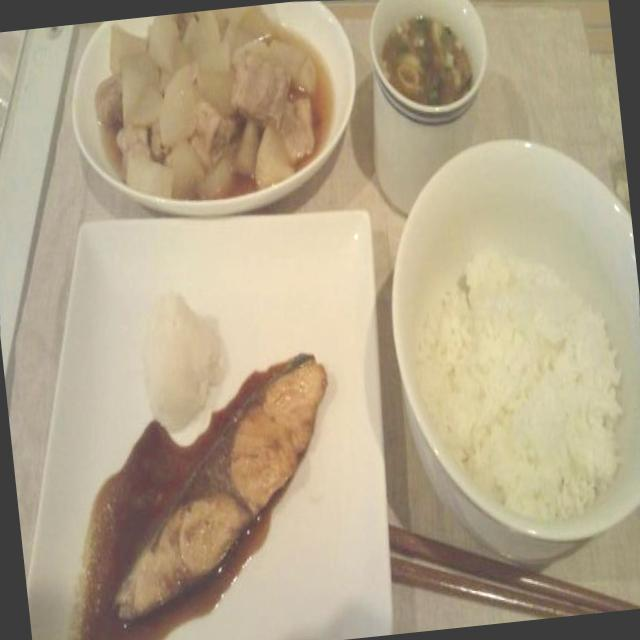Rice: (401, 232, 640, 546)
